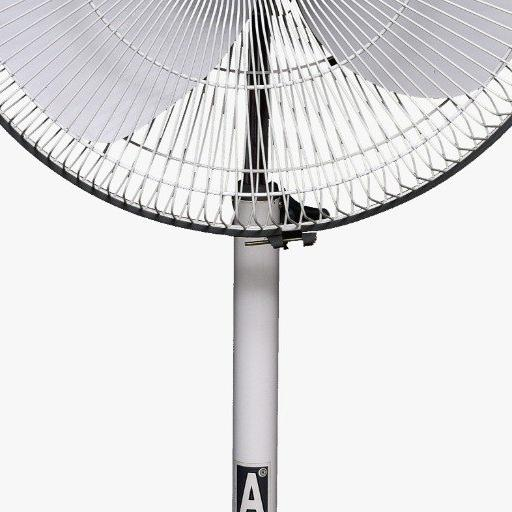Fan: (0, 0, 512, 241)
